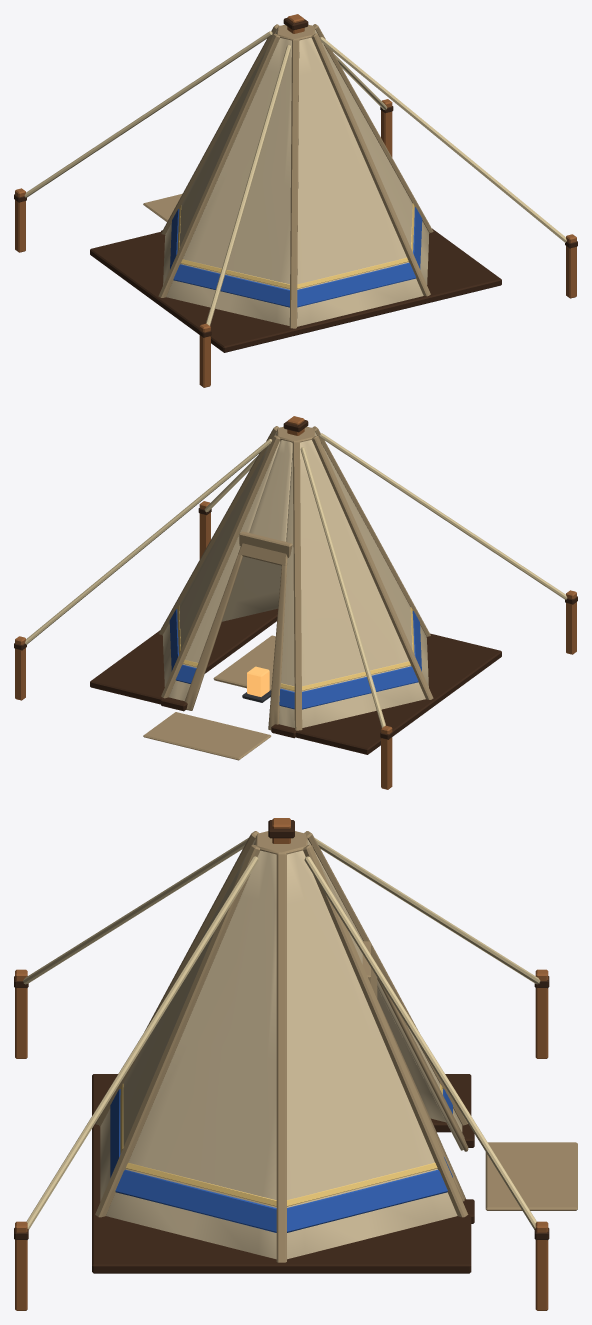
Rendered from 初级帐篷.glb.
3 views of the same model, one above another, from view 1: azimuth 30°, elevation 25°; view 2: azimuth 150°, elevation 25°; view 3: azimuth 270°, elevation 25° (orthographic). The views are drawn at different scales.
Parts seen in each view (by area): view 1: BR-canvas, BR-wood_dark, BR-canvas_dark, BR-site_rope, BR-team, BR-wood_warm, BR-team_trim; view 2: BR-canvas, BR-canvas_dark, BR-wood_dark, BR-site_rope, BR-team, BR-wood_warm, BR-team_trim, BR-glow; view 3: BR-canvas, BR-canvas_dark, BR-wood_dark, BR-site_rope, BR-team, BR-wood_warm, BR-team_trim.
Part boxes in pixels (left/top/right/bottom): BR-canvas: left=163, top=29, right=429, bottom=326; BR-wood_dark: left=14, top=18, right=577, bottom=352; BR-canvas_dark: left=143, top=24, right=433, bottom=328; BR-site_rope: left=24, top=31, right=566, bottom=325; BR-team: left=170, top=207, right=422, bottom=307; BR-wood_warm: left=15, top=14, right=576, bottom=387; BR-team_trim: left=177, top=203, right=414, bottom=288; BR-canvas: left=162, top=431, right=428, bottom=727; BR-canvas_dark: left=143, top=426, right=433, bottom=760; BR-wood_dark: left=14, top=420, right=577, bottom=754; BR-site_rope: left=25, top=433, right=567, bottom=727; BR-team: left=169, top=609, right=421, bottom=709; BR-wood_warm: left=15, top=416, right=576, bottom=789; BR-team_trim: left=177, top=605, right=414, bottom=690; BR-glow: left=247, top=666, right=269, bottom=696; BR-canvas: left=100, top=839, right=463, bottom=1259; BR-canvas_dark: left=95, top=831, right=577, bottom=1262; BR-wood_dark: left=14, top=820, right=549, bottom=1273; BR-site_rope: left=23, top=837, right=540, bottom=1229; BR-team: left=110, top=1089, right=452, bottom=1232; BR-wood_warm: left=15, top=818, right=548, bottom=1310; BR-team_trim: left=120, top=1083, right=442, bottom=1206.
Bounding box in the file's own units: 3.57 × 2.33 × 3.29.
